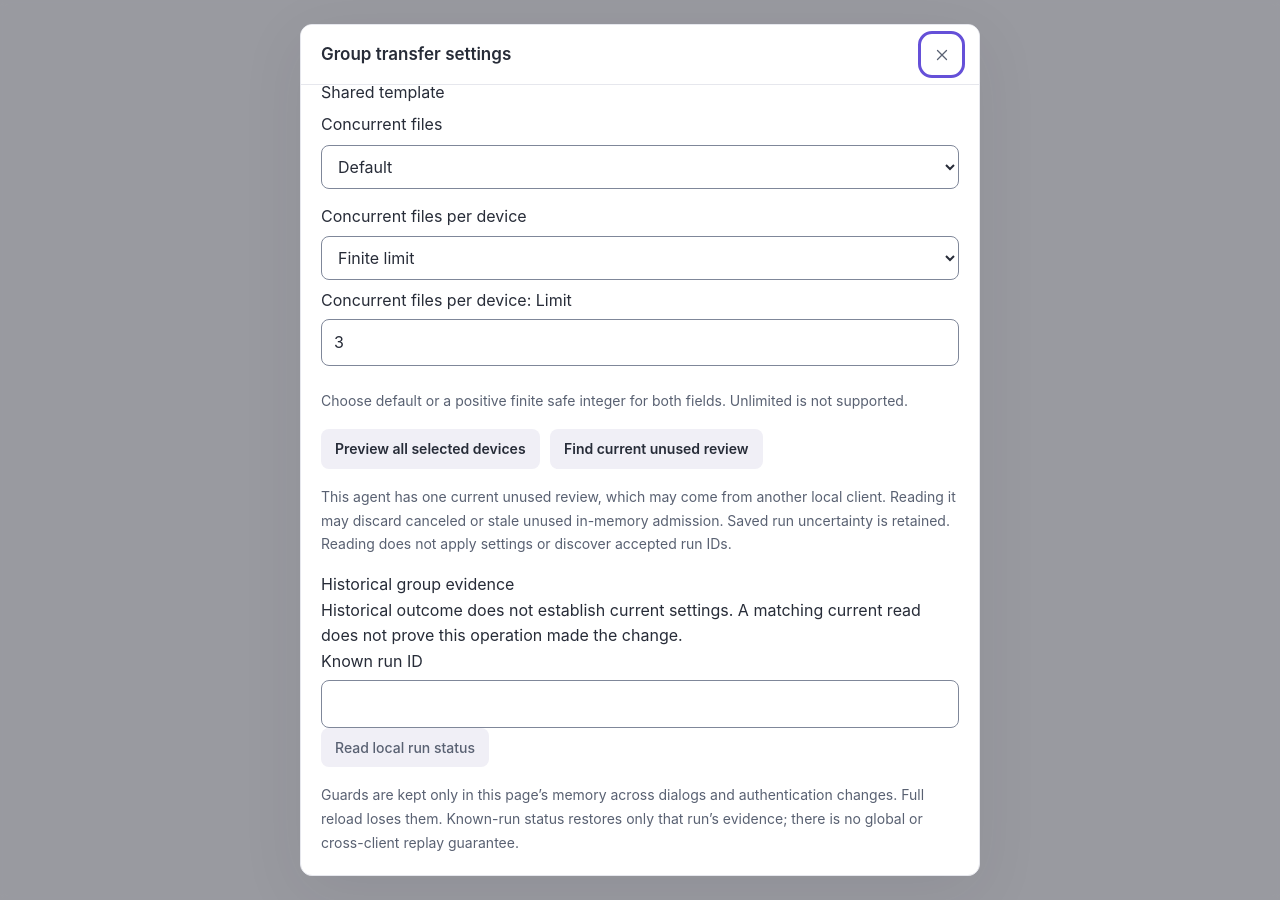
fixed-group settings dialog › retains every ready excluded and failed review row with separate requested and effective values
The width and height of the screenshot is (1280, 900).
(page scrolled)
Click the button "Find current unused review" at (656, 449), box [550,429,763,469]
(page scrolled)
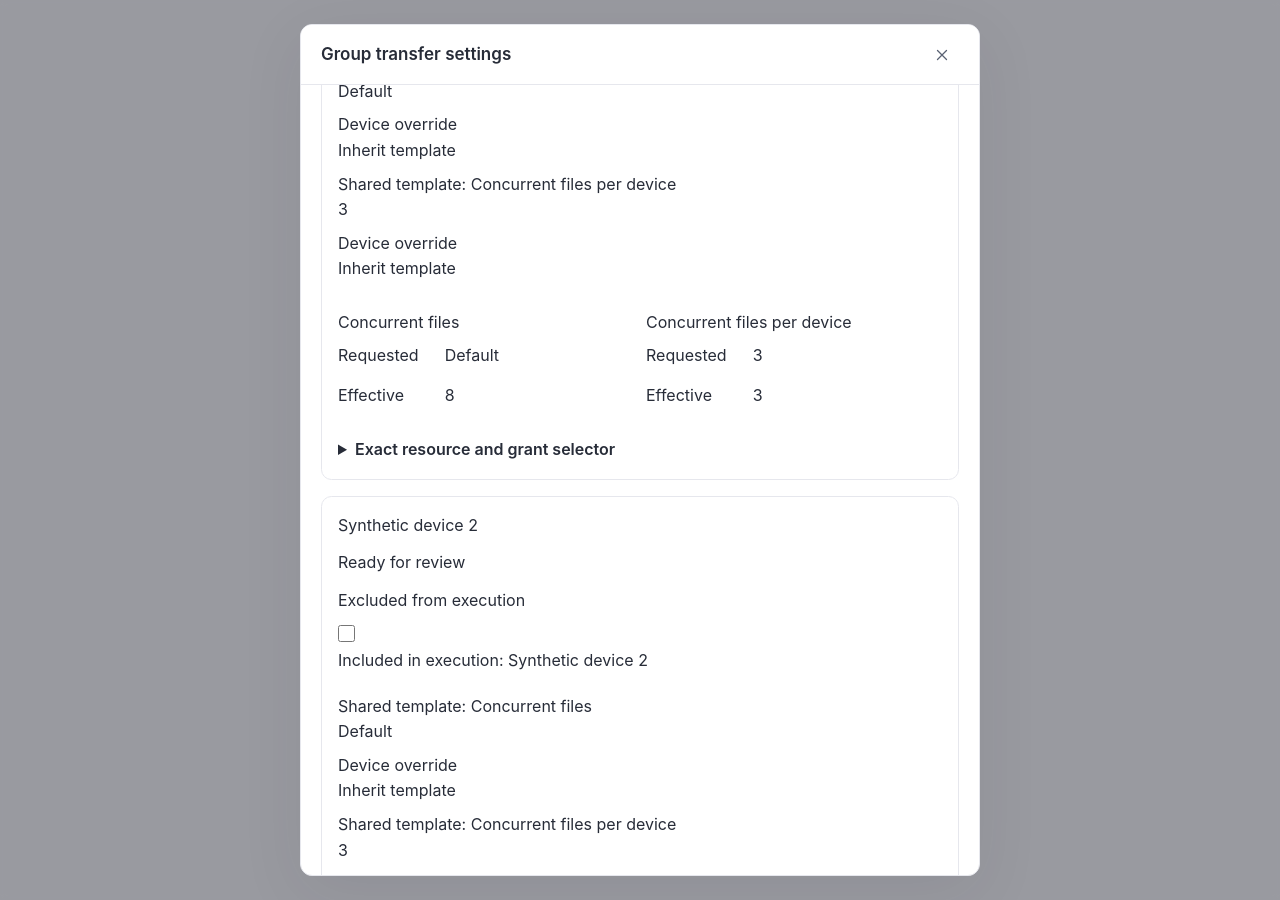
Expected: the list item that starts with "Synthetic device 2" shows "Excluded from execution", [338,590,525,610]
Expected: the text "Requested" is shown 2 times, [338,346,419,366]; [646,346,727,366]
Expected: the text "Effective" is shown 2 times, [338,386,404,406]; [646,386,712,406]
